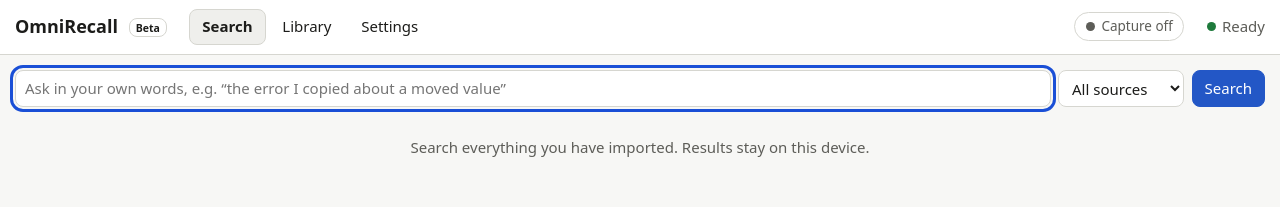
Test case: search with no results suggests simpler wording
Step 1. Type "zzz" into the search field named "Search your history" → (533, 89), box [15,70,1050,107]
Then press Enter
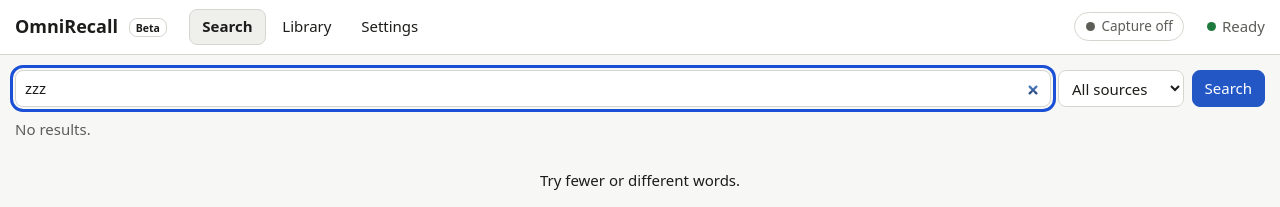
Expected: the text "No results." is shown, [15,118,91,138]
Expected: the text "Try fewer or different words." is shown, [540,170,740,190]
